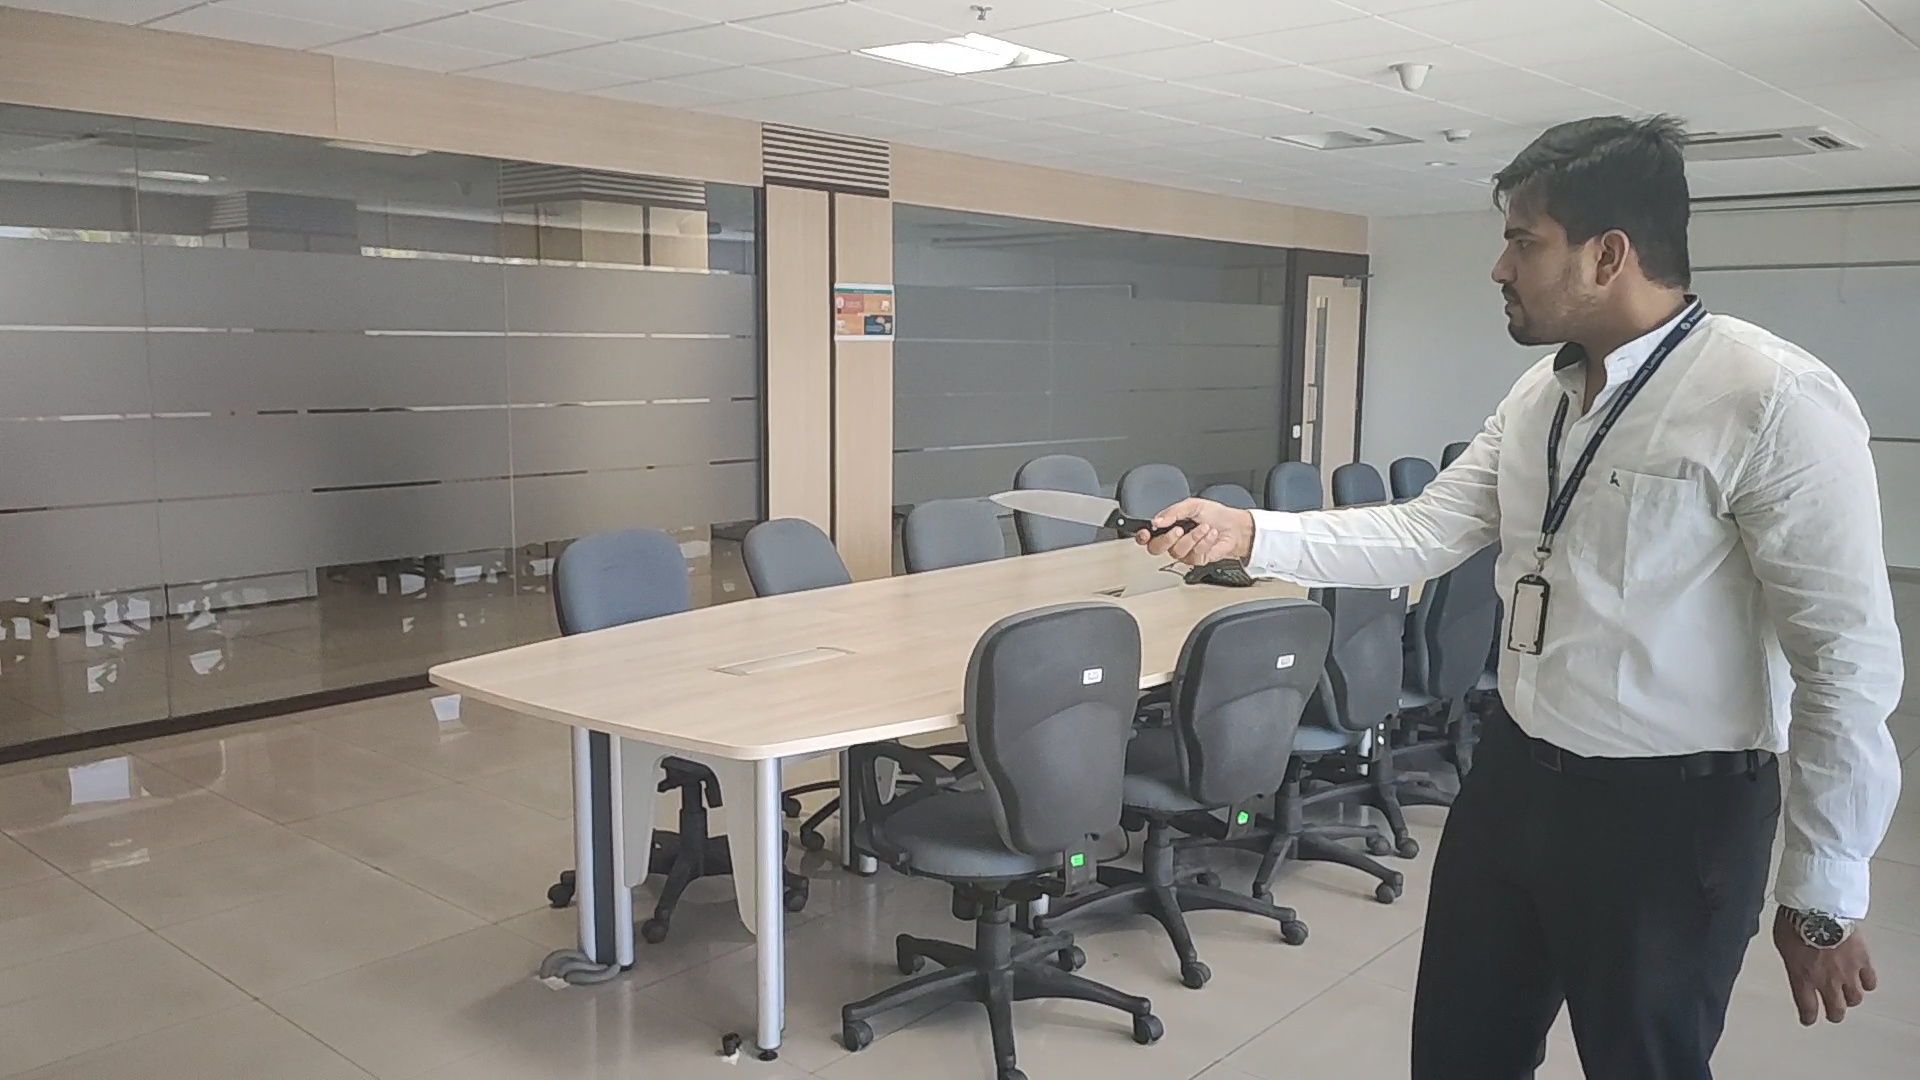knife: (986, 485, 1158, 535)
